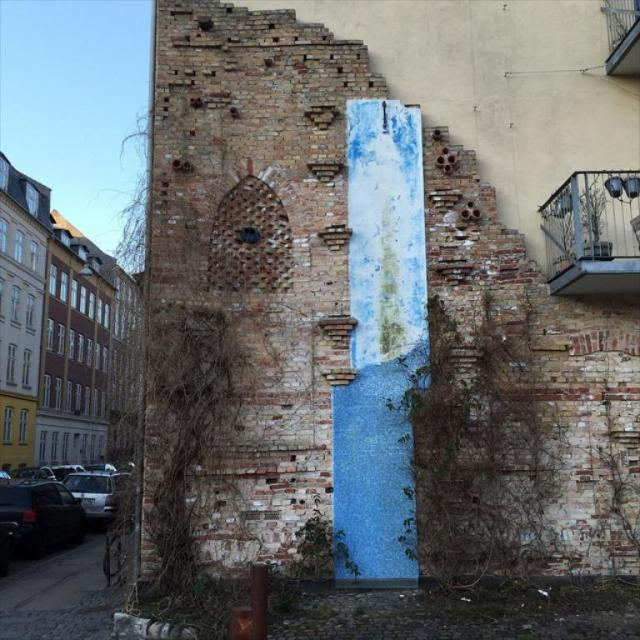other: (0, 474, 91, 568), (60, 460, 137, 522), (41, 462, 81, 482)
